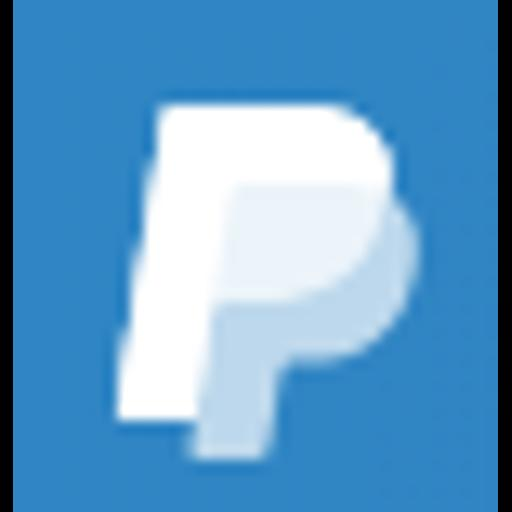PayPal: (13, 0, 498, 512)
